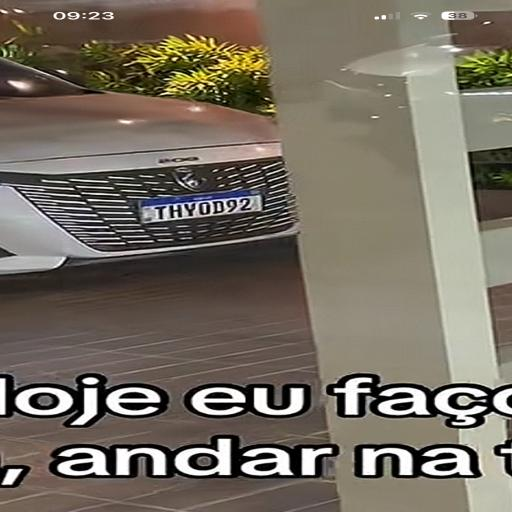detec-o-placas: (118, 179, 309, 234)
